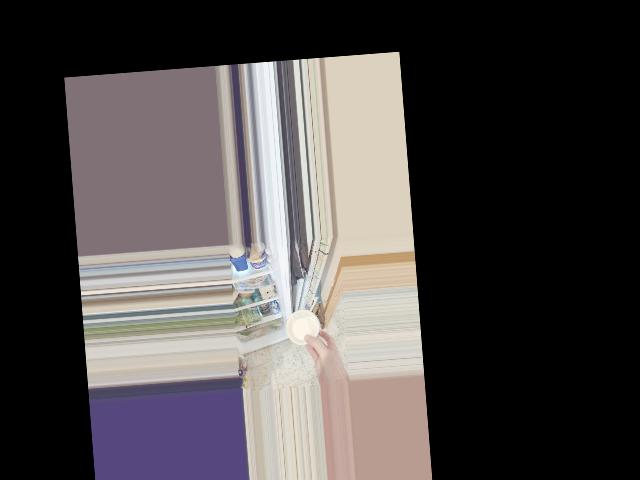cotage: (287, 309, 324, 346)
